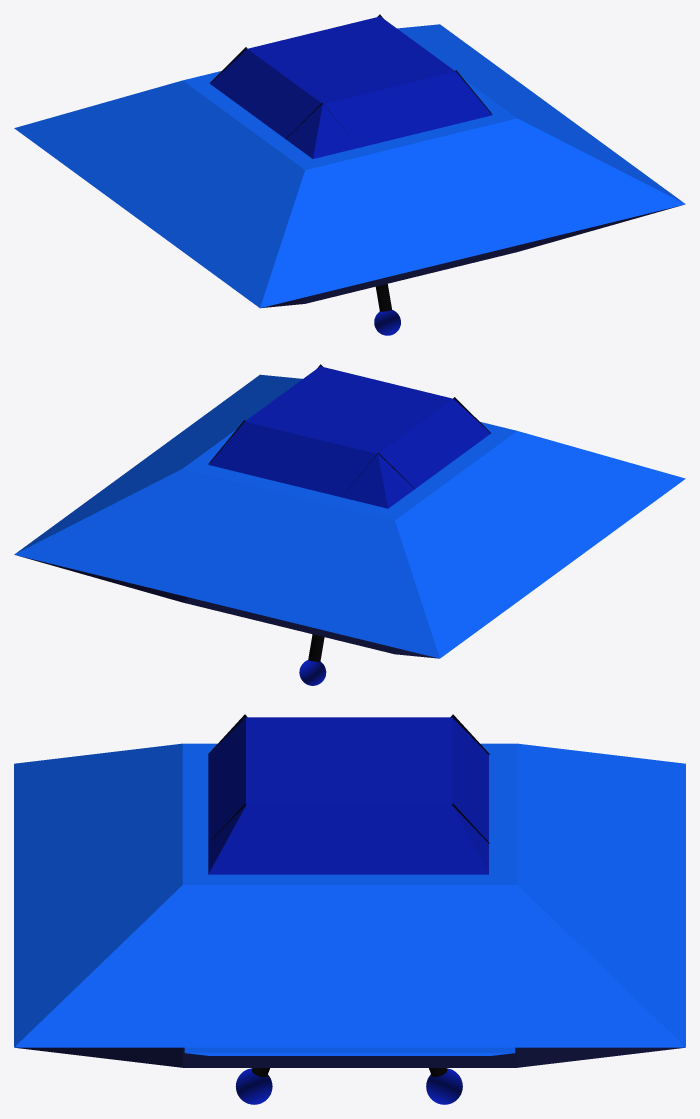
The picture shows the model from 3 angles, top to bottom: view 1: azimuth 30°, elevation 25°; view 2: azimuth 150°, elevation 25°; view 3: azimuth 270°, elevation 25°; orthographic projection. The views are drawn at different scales.
Visible parts, largest first — view 1: Box004; view 2: Box004; view 3: Box004.
Part boxes in pixels (x1,y1,x2,y2): Box004: (14, 14, 685, 335); Box004: (14, 364, 685, 685); Box004: (14, 714, 685, 1104).
Size of the model in its own units: 78.74 by 44.37 by 78.74.
